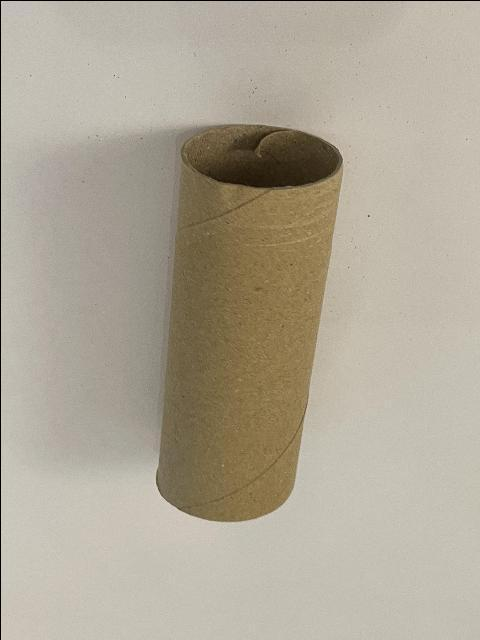tissueroll: (154, 121, 343, 523)
